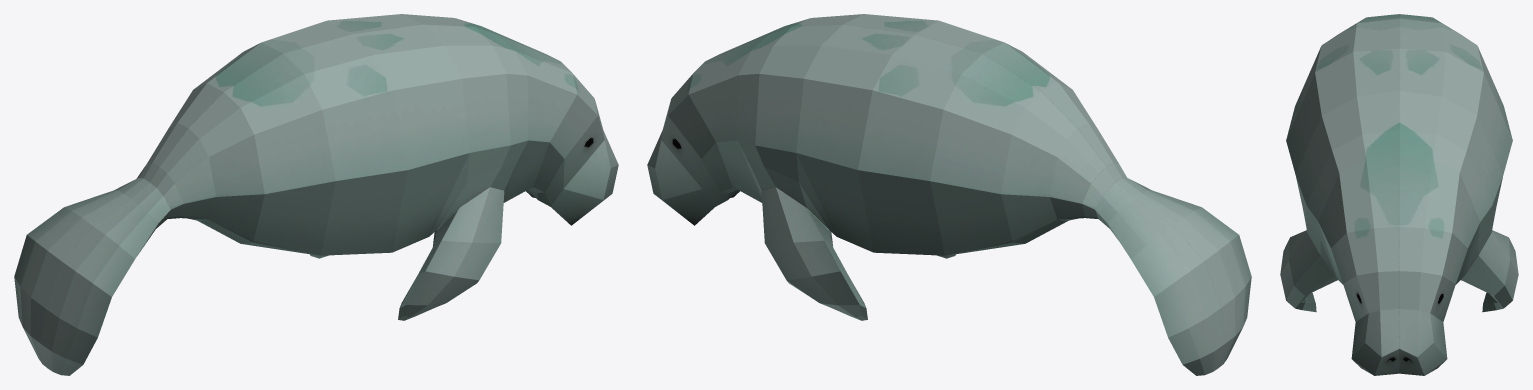
The model's file is prop_pz_manatee.glb.
The picture shows the model from 3 angles, left to right: view 1: azimuth 30°, elevation 25°; view 2: azimuth 150°, elevation 25°; view 3: azimuth 270°, elevation 25°; orthographic projection.
Visible parts, largest first — view 1: Manatees_mesh; view 2: Manatees_mesh; view 3: Manatees_mesh.
Part boxes in pixels (x1,y1,x2,y2): Manatees_mesh: (14, 14, 618, 375); Manatees_mesh: (647, 14, 1251, 375); Manatees_mesh: (1280, 14, 1518, 375).
Size of the model in its own units: 10.18 by 4.45 by 3.75.
Materials: 1 (1 with a texture image).
